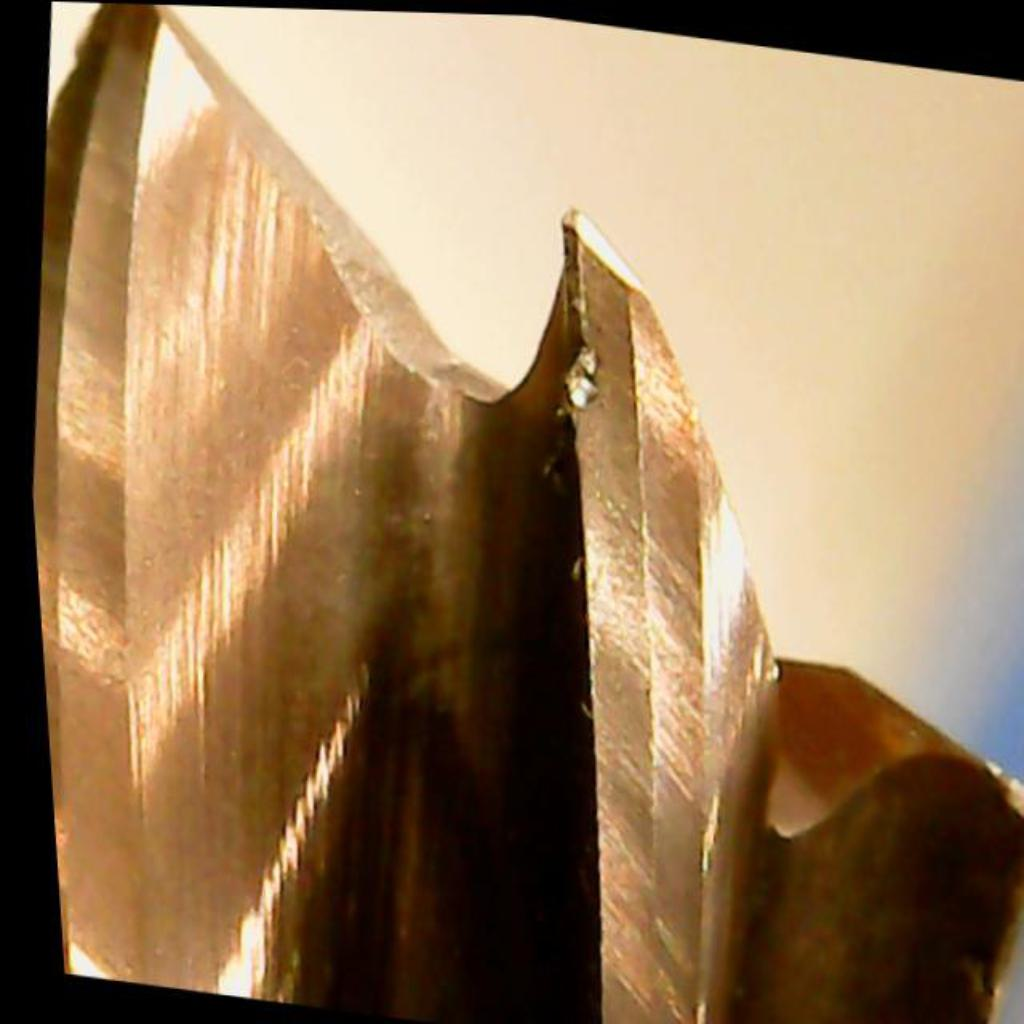Tool-wear-class-1: (491, 191, 760, 659)
